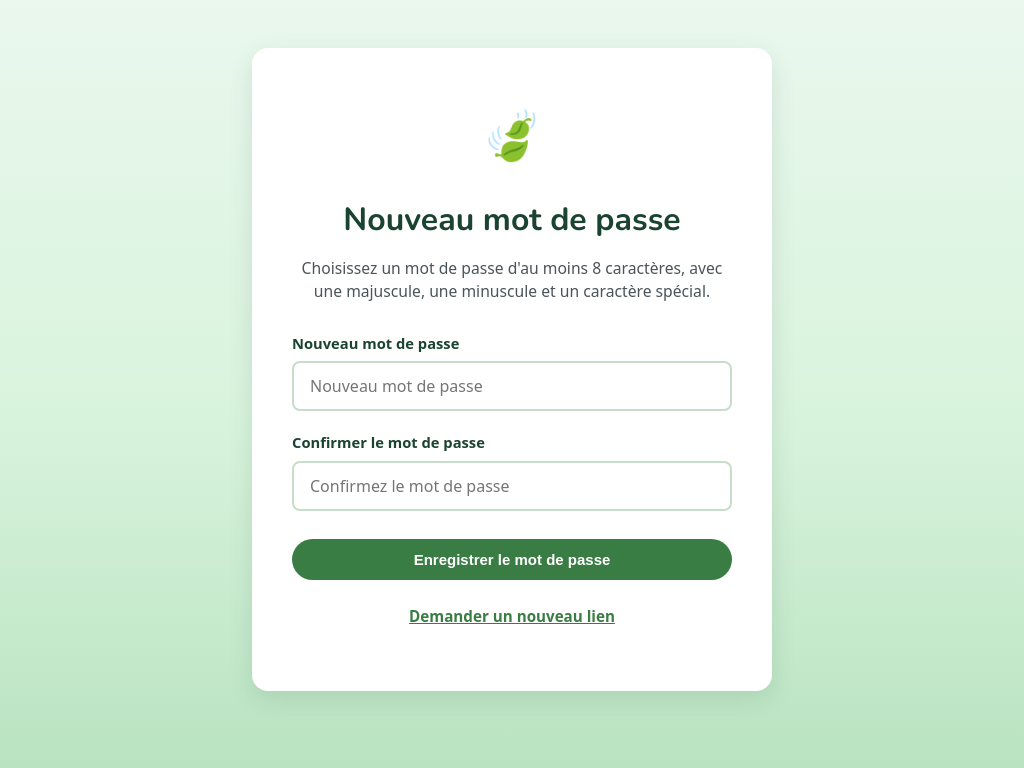
Réinitialiser le mot de passe › refuse deux mots de passe différents
Step 1. Type "Password1!" into the password field labelled "Nouveau mot de passe" → [512, 386], box [292,361,732,411]
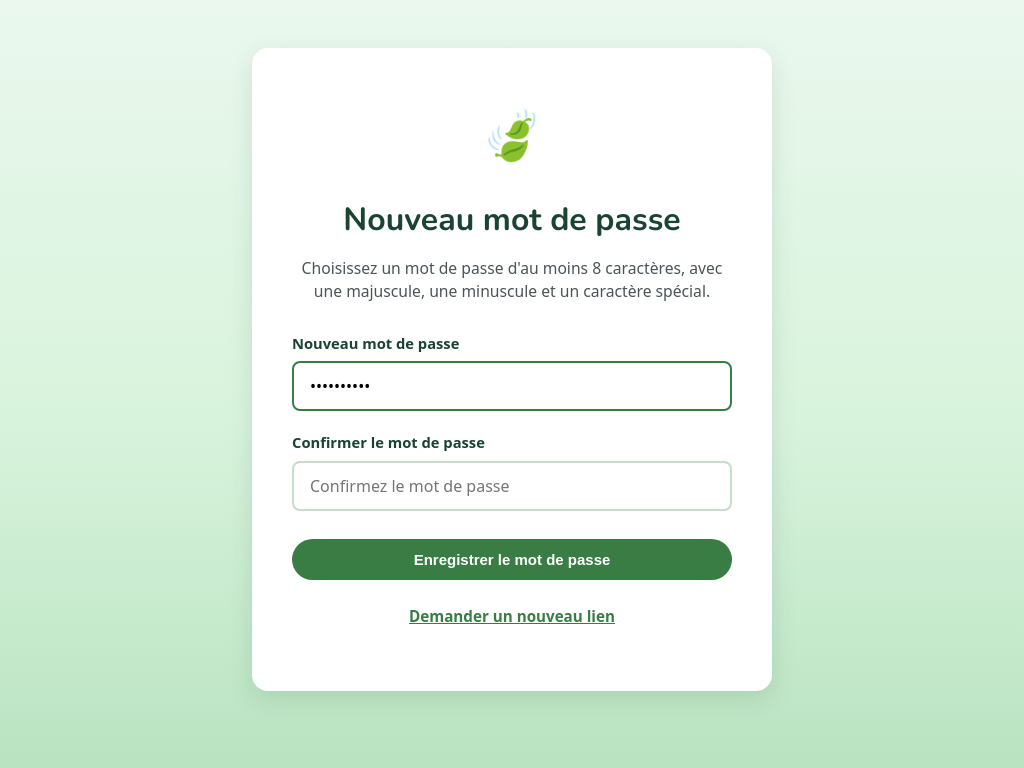
Step 2. Type "AutrePass1!" into the password field labelled "Confirmer le mot de passe" → [512, 486], box [292,461,732,511]
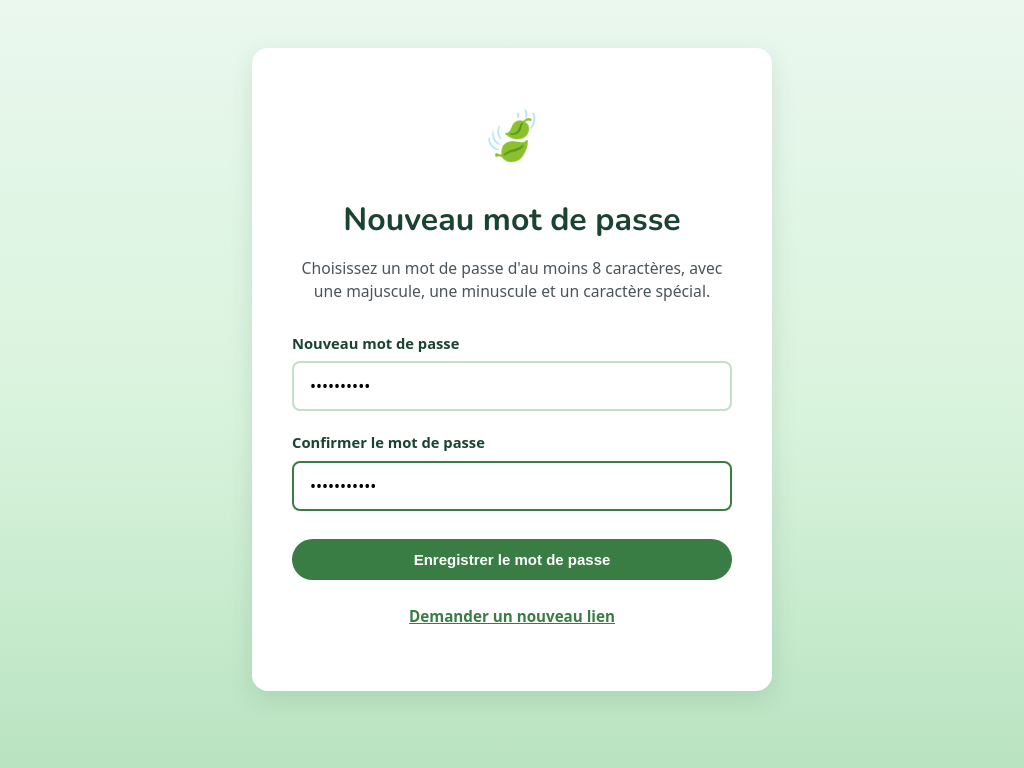
Step 3. Click the button "Enregistrer le mot de passe" → [512, 559], box [292,539,732,580]
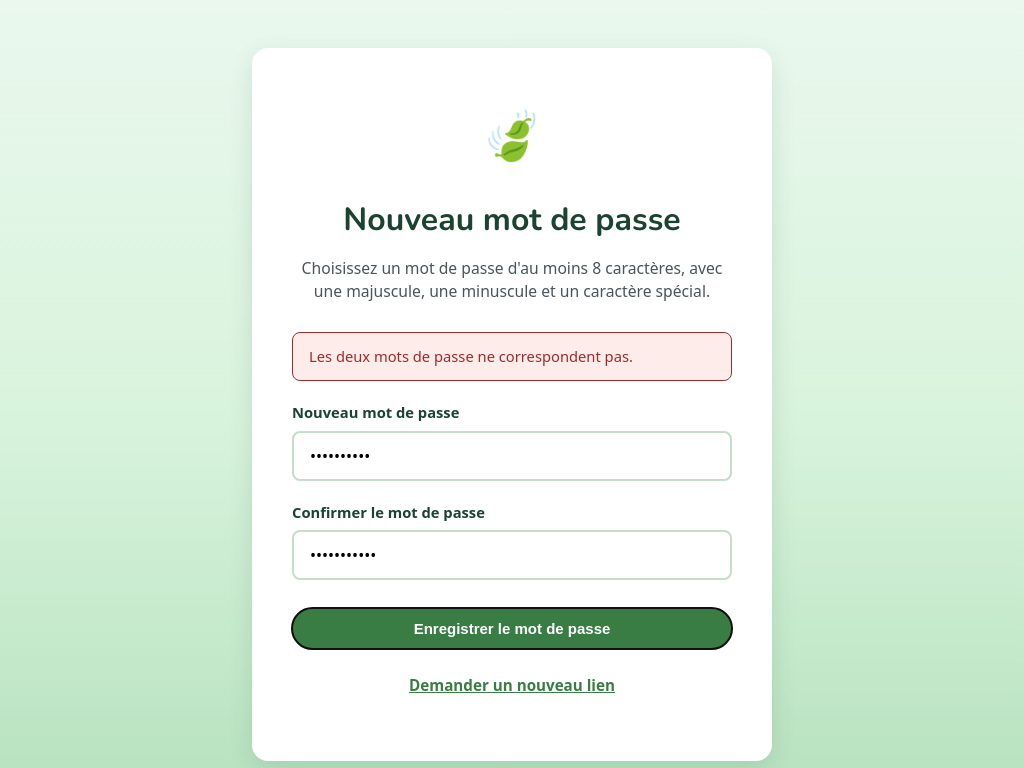
Check: the message shows "ne correspondent pas", box [309,346,633,366]
